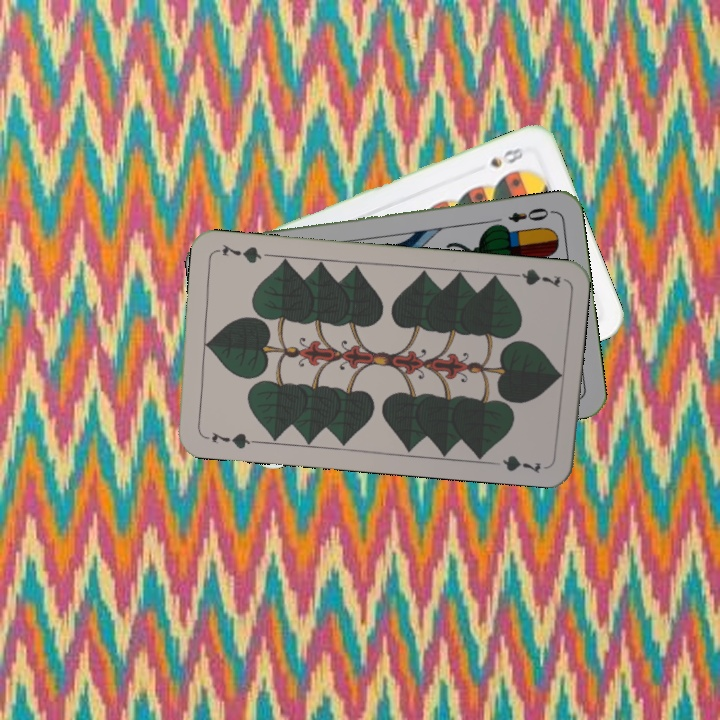EO: (504, 203, 556, 225)
G7: (505, 265, 563, 290), (208, 428, 259, 452)
S8: (486, 143, 526, 171)
